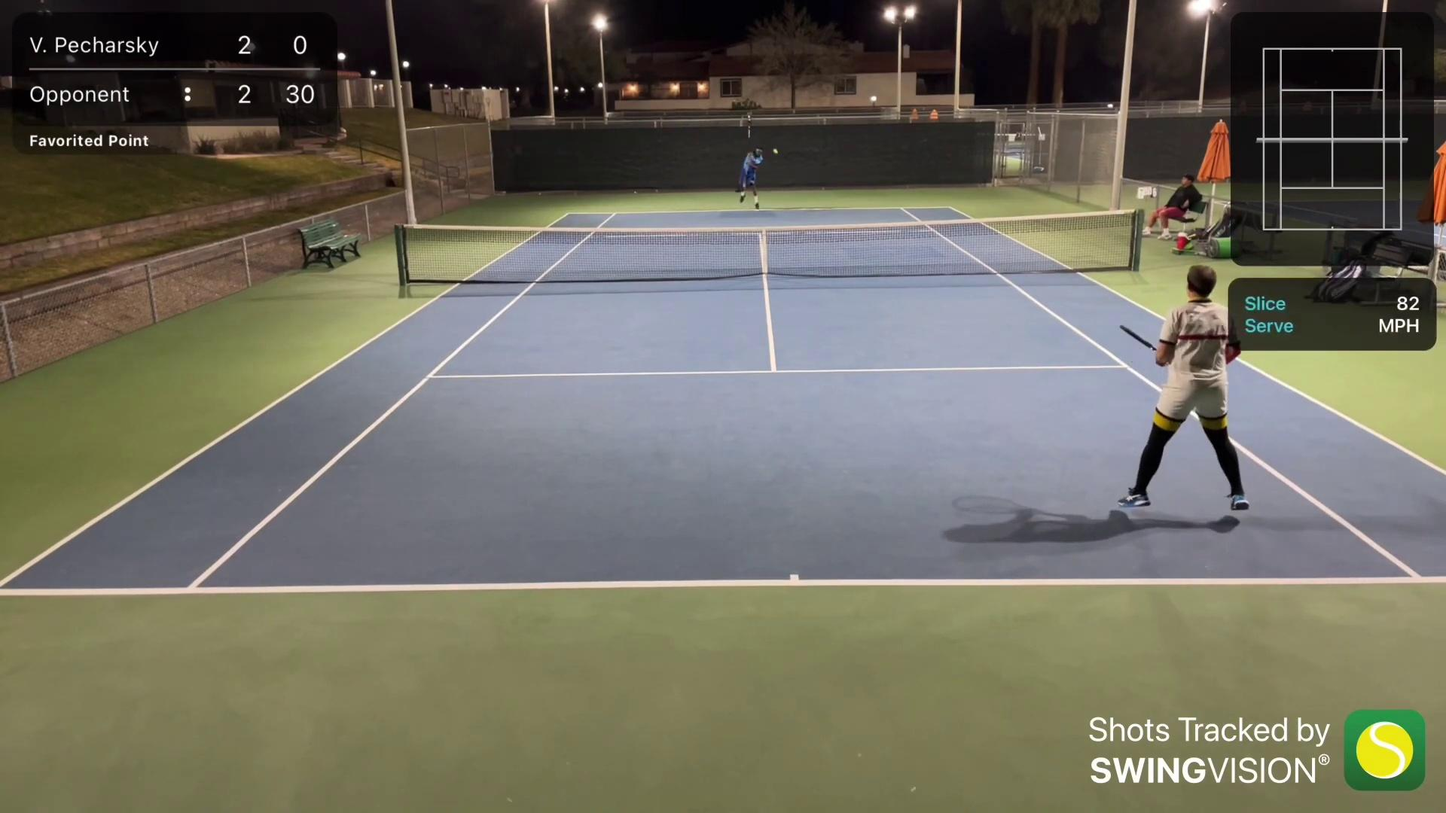ball: (774, 150, 779, 155)
